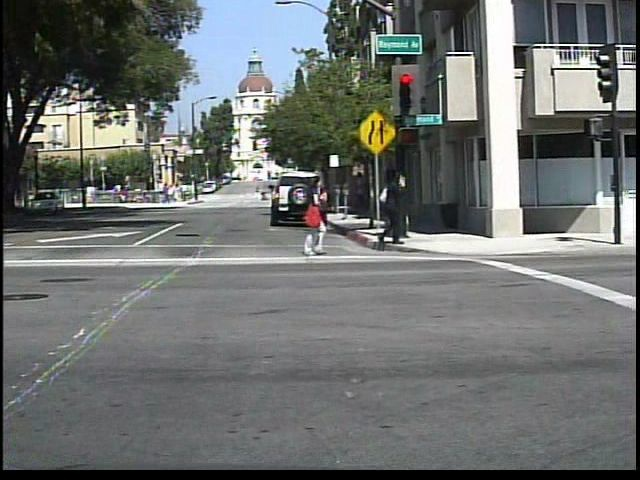person: (370, 165, 414, 251), (290, 172, 333, 256), (260, 188, 271, 204)
